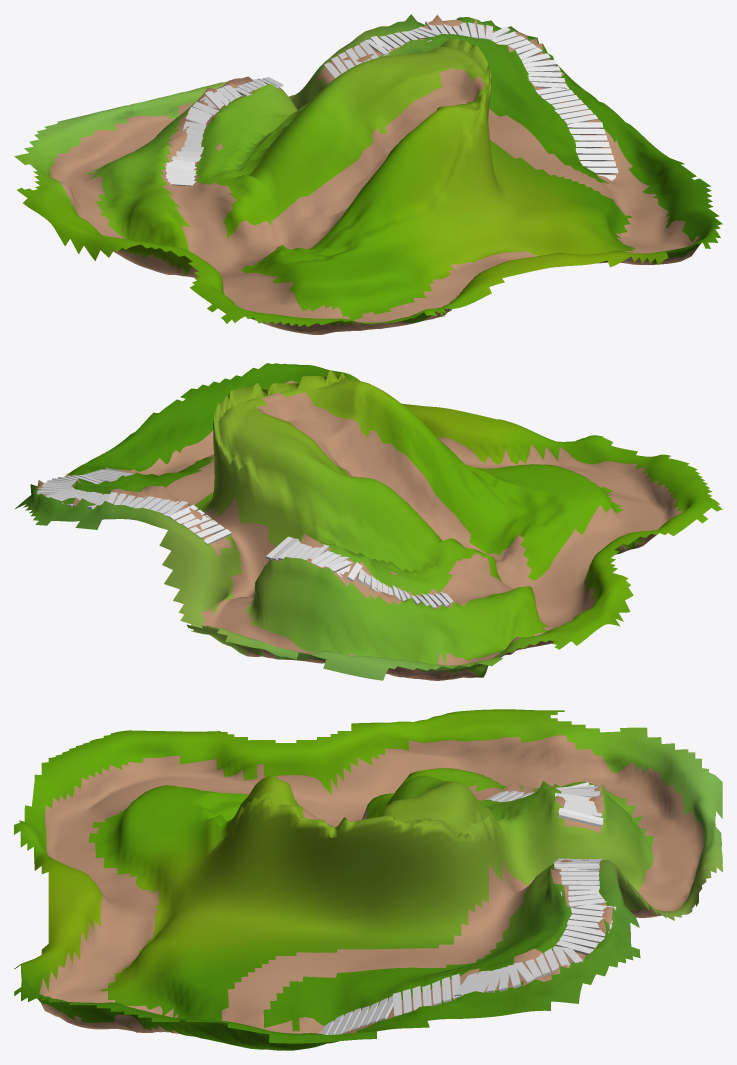
The model's file is prova.fbx.
The picture shows the model from 3 angles, top to bottom: view 1: azimuth 30°, elevation 25°; view 2: azimuth 150°, elevation 25°; view 3: azimuth 270°, elevation 25°; orthographic projection. The views are drawn at different scales.
Parts seen in each view (by area): view 1: Plane002; view 2: Plane002; view 3: Plane002.
Boxes of the visible parts, left/top/right/bottom form: Plane002: left=14, top=14, right=722, bottom=334; Plane002: left=15, top=363, right=722, bottom=680; Plane002: left=14, top=709, right=722, bottom=1050.
Bounding box in the file's own units: 473 × 124 × 441.
